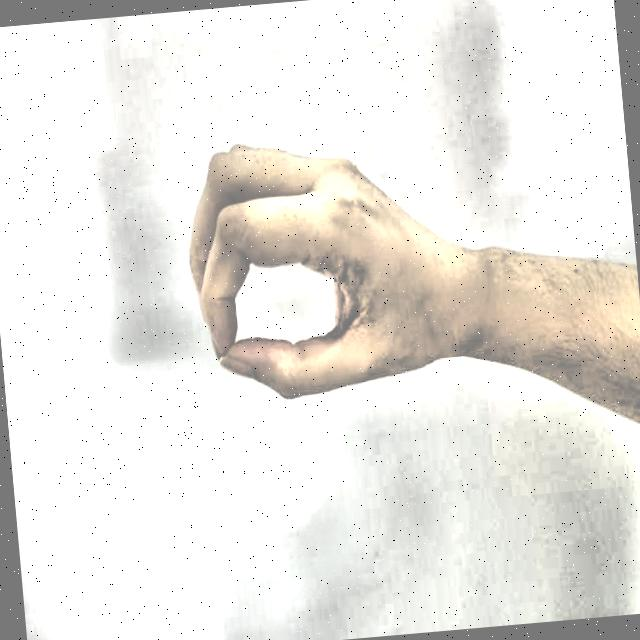O: (145, 86, 492, 443)
